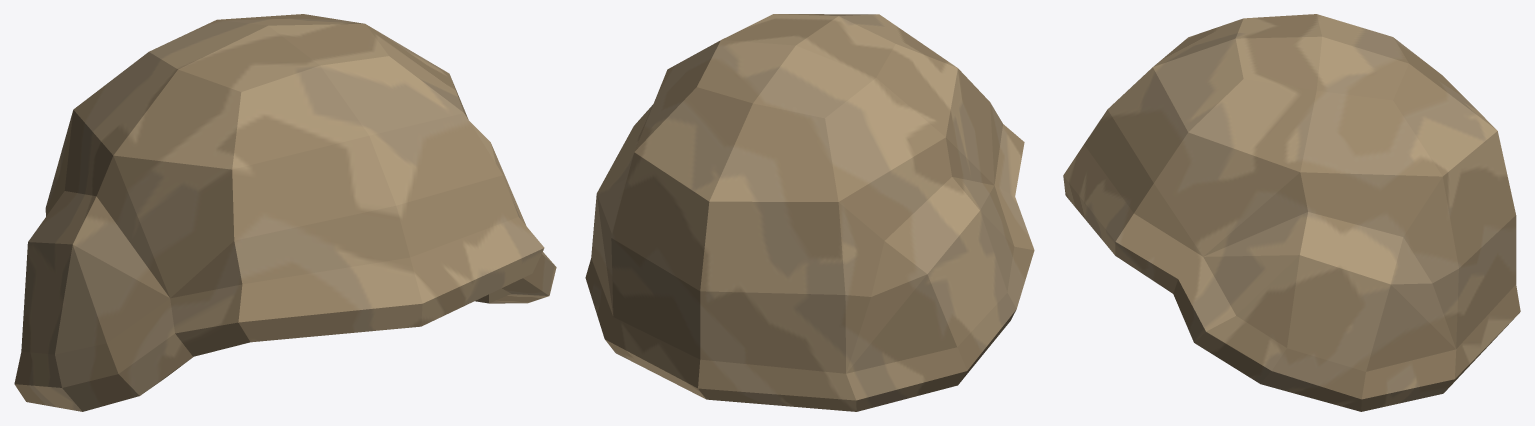
The model's file is SM_Chr_Attach_Helmet_06.fbx.
3 renders of one model, left to right at view 1: azimuth 30°, elevation 25°; view 2: azimuth 150°, elevation 25°; view 3: azimuth 270°, elevation 25°, orthographic. The views are drawn at different scales.
Visible parts, largest first — view 1: SM_Chr_Attach_Helmet_06; view 2: SM_Chr_Attach_Helmet_06; view 3: SM_Chr_Attach_Helmet_06.
Boxes of the visible parts, x1=… form: SM_Chr_Attach_Helmet_06: x1=14, y1=14, x2=556, y2=411; SM_Chr_Attach_Helmet_06: x1=585, y1=14, x2=1034, y2=411; SM_Chr_Attach_Helmet_06: x1=1063, y1=14, x2=1520, y2=411.
Bounding box in the file's own units: 36.94 × 26.42 × 36.84.
